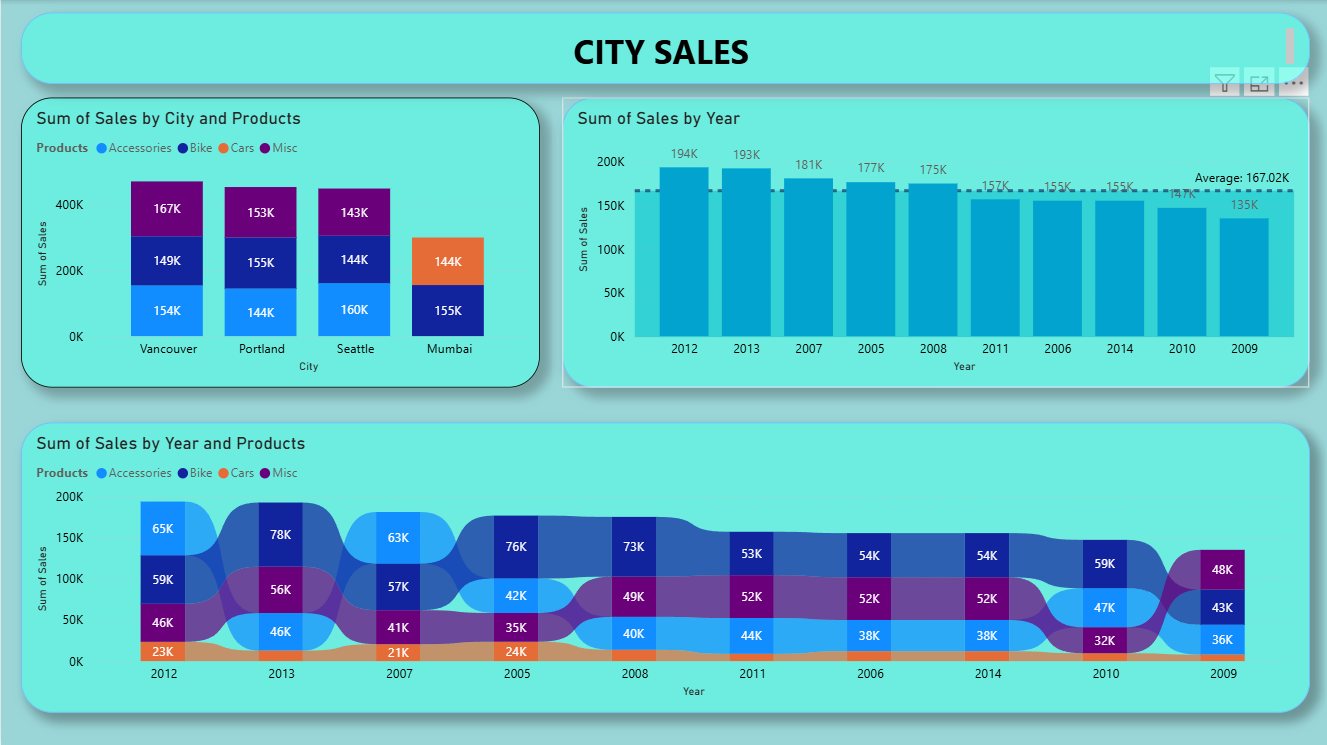

This screenshot's page, from the dashboard's own definition file:
{"tool":"powerbi","page":{"name":"City Sales Report","canvas":[1280,720],"ordinal":0},"visuals":[{"type":"columnChart","fields":{"Category":["Sales Data.City"],"Y":["Sum(Sales Data.Sales)"],"Series":["Sales Data.Products"]},"box":[19.3,94.1,500.7,279.9],"z":0},{"type":"clusteredColumnChart","fields":{"Category":["Sales Data.Year"],"Y":["Sum(Sales Data.Sales)"]},"box":[541.7,94.1,721.5,279.9],"z":1000},{"type":"ribbonChart","fields":{"Category":["Sales Data.Year"],"Y":["Sum(Sales Data.Sales)"],"Series":["Sales Data.Products"]},"box":[19.3,407.8,1243.8,279.9],"z":2000},{"type":"textbox","box":[19.3,12.1,1243.8,55.5],"z":3000}]}

Visuals, with their boxes in screenshot pixels (x1, y1, x2, y2), scaled from the page's 1280x720 canvas onto the 1327x745 screenshot:
columnChart - Sales Data.City x Sum(Sales Data.Sales): locate(20, 97, 539, 387)
clusteredColumnChart - Sales Data.Year x Sum(Sales Data.Sales): locate(562, 97, 1310, 387)
ribbonChart - Sales Data.Year x Sum(Sales Data.Sales): locate(20, 422, 1309, 712)
textbox: locate(20, 13, 1309, 70)
